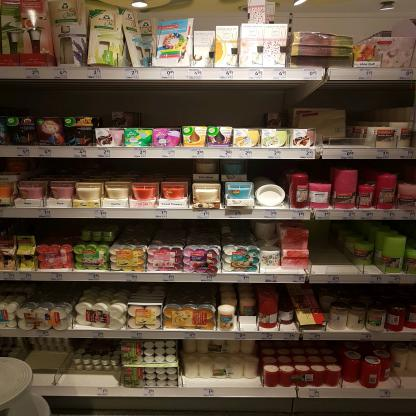Void: (136, 88, 266, 123), (311, 221, 349, 270), (342, 88, 388, 125), (126, 223, 221, 240), (38, 221, 76, 239)
